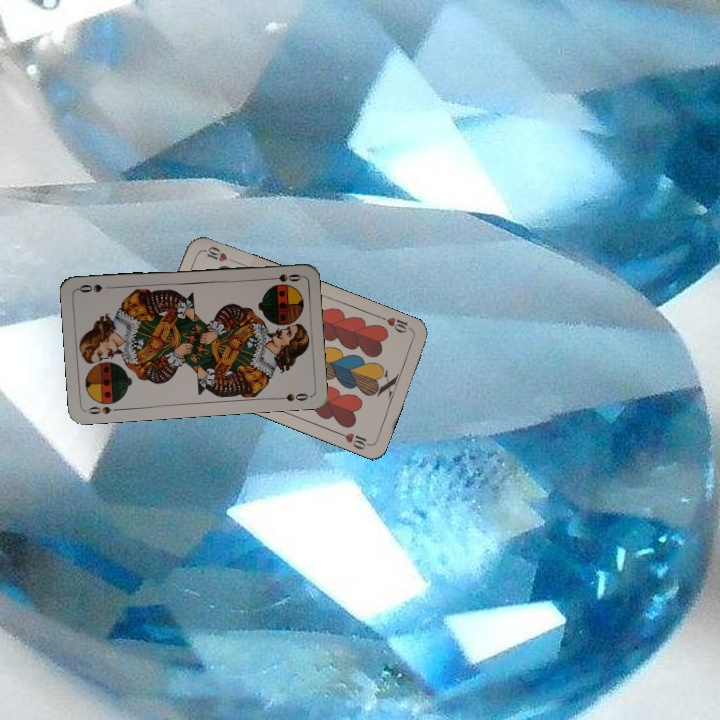H10: (377, 312, 416, 335)
SO: (84, 402, 123, 417), (263, 270, 303, 284)
